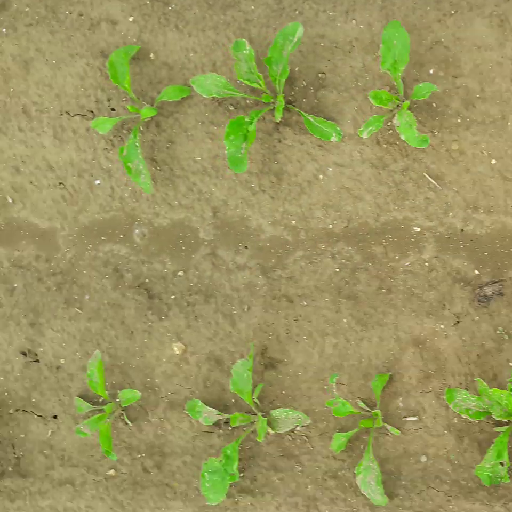sugarbeet: (186, 20, 347, 181), (181, 341, 315, 510), (78, 43, 194, 197), (353, 14, 444, 152), (321, 367, 406, 510), (65, 351, 146, 464), (440, 375, 512, 488)
